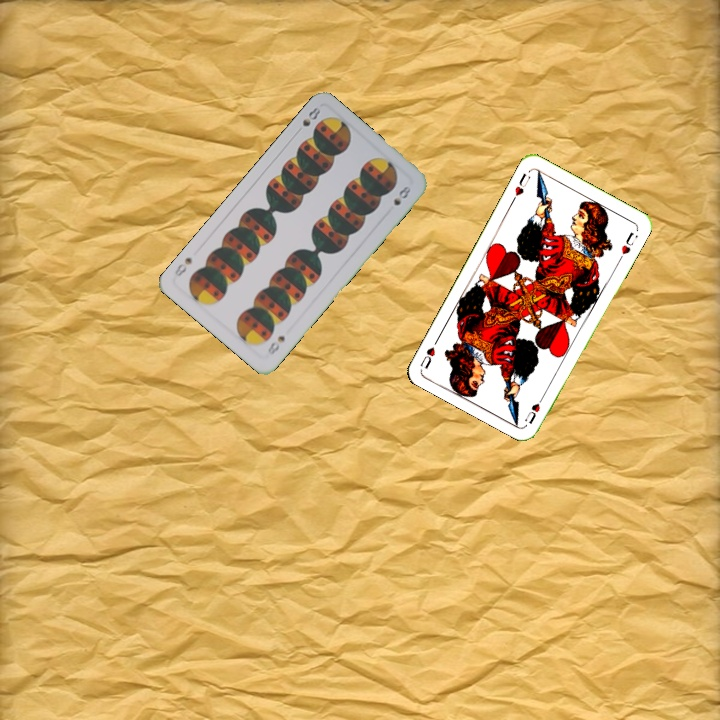HU: (521, 390, 547, 427), (508, 169, 533, 205)
S8: (291, 103, 323, 137), (264, 331, 288, 358)
